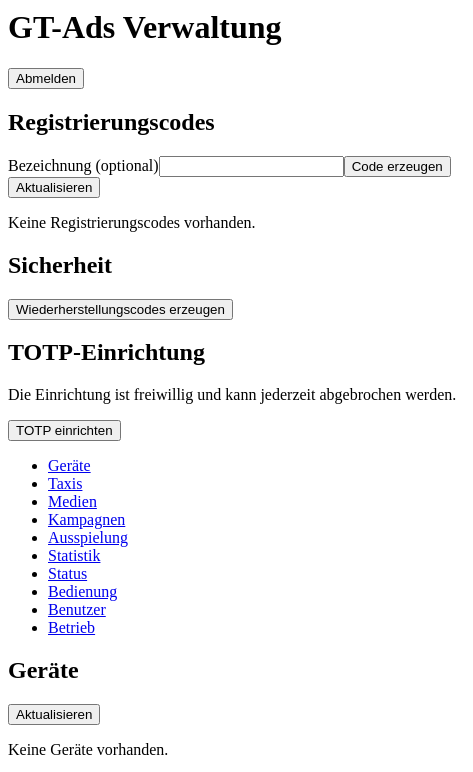
CX-050 Statistikseite › öffnet die Statistikseite aus der Navigation und unterscheidet leere, unvollständige sowie ungültige Zeiträume
Later steps or results of the test are not shown.
Expected: the heading "Geräte" is shown, [8, 657, 79, 683]
What coordinates should you click on to do the following:
click the link "Statistik"
I would click on:
 (74, 556)
Its box is [48, 547, 100, 564].
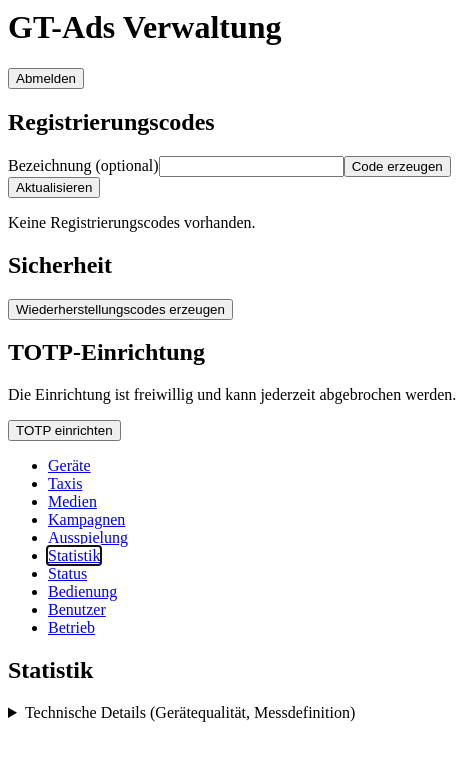
Expected: the heading "Statistik" is shown, [8, 657, 93, 683]
